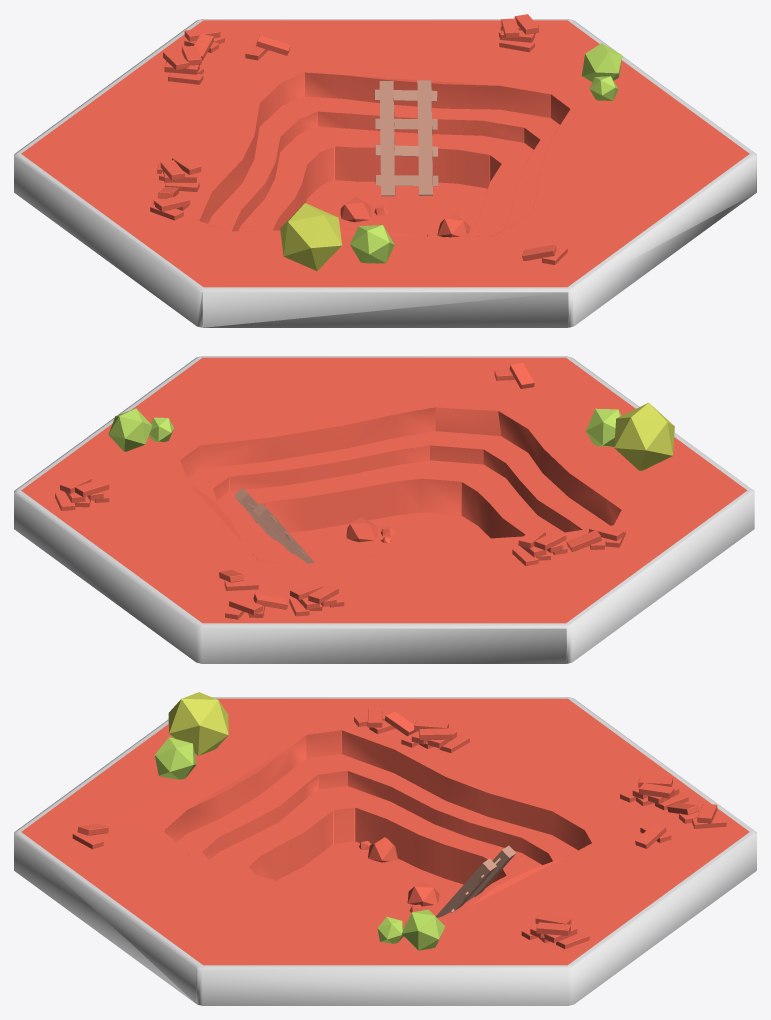
File: basetile_claypit_orig.fbx
3 renders of one model, top to bottom at view 1: azimuth 30°, elevation 25°; view 2: azimuth 150°, elevation 25°; view 3: azimuth 270°, elevation 25°, orthographic.
Visible parts, largest first — view 1: BasePlate, Cube.008, Icosphere.010, Icosphere.009, Cube.002, Cube.003, Cube.006, Icosphere.007, Cube.004, Cube.001, Icosphere, Icosphere.008 (+1 smaller); view 2: BasePlate, Icosphere.010, Cube.006, Cube.003, Cube.008, Cube.002, Icosphere.007, Cube.004, Cube.001, Icosphere.009, Icosphere.003; view 3: BasePlate, Icosphere.010, Cube.008, Cube.002, Cube.006, Cube.003, Icosphere.009, Icosphere.007, Cube.001, Cube.004, Icosphere, Icosphere.006 (+1 smaller).
Boxes of the visible parts, left/top/right/bottom form: BasePlate: left=14, top=19, right=756, bottom=327; Cube.008: left=374, top=80, right=438, bottom=196; Icosphere.010: left=280, top=203, right=341, bottom=270; Icosphere.009: left=350, top=225, right=394, bottom=263; Cube.002: left=163, top=45, right=203, bottom=84; Cube.003: left=157, top=154, right=201, bottom=191; Cube.006: left=498, top=14, right=538, bottom=52; Icosphere.007: left=581, top=43, right=622, bottom=81; Cube.004: left=150, top=186, right=190, bottom=220; Cube.001: left=184, top=26, right=224, bottom=60; Icosphere: left=340, top=197, right=371, bottom=222; Icosphere.008: left=589, top=76, right=618, bottom=100; BasePlate: left=14, top=356, right=754, bottom=663; Icosphere.010: left=614, top=402, right=674, bottom=470; Cube.006: left=55, top=474, right=109, bottom=510; Cube.003: left=512, top=528, right=567, bottom=565; Cube.008: left=234, top=488, right=314, bottom=563; Cube.002: left=289, top=581, right=344, bottom=616; Icosphere.007: left=108, top=408, right=152, bottom=451; Cube.004: left=566, top=523, right=625, bottom=551; Cube.001: left=225, top=593, right=288, bottom=619; Icosphere.009: left=586, top=408, right=621, bottom=446; Icosphere.003: left=346, top=517, right=377, bottom=542; BasePlate: left=14, top=697, right=756, bottom=1005; Icosphere.010: left=168, top=692, right=228, bottom=755; Cube.008: left=436, top=845, right=516, bottom=917; Cube.002: left=620, top=776, right=688, bottom=810; Cube.006: left=521, top=913, right=589, bottom=949; Cube.003: left=401, top=719, right=470, bottom=752; Icosphere.009: left=155, top=737, right=196, bottom=779; Icosphere.007: left=401, top=909, right=445, bottom=950; Cube.001: left=667, top=802, right=726, bottom=828; Cube.004: left=354, top=708, right=417, bottom=736; Icosphere: left=407, top=881, right=439, bottom=906; Icosphere.006: left=368, top=837, right=397, bottom=862.
Bounding box in the file's own units: 177 × 42.16 × 204.
